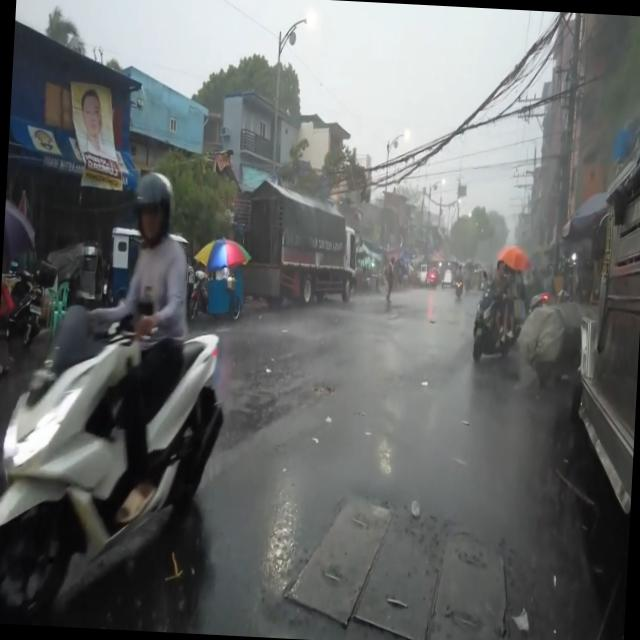half: (131, 168, 179, 252)
not_wearing: (496, 258, 507, 280)
